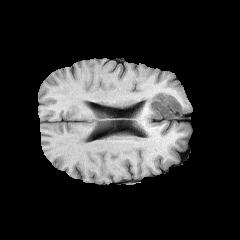glioma: (142, 91, 179, 118)
